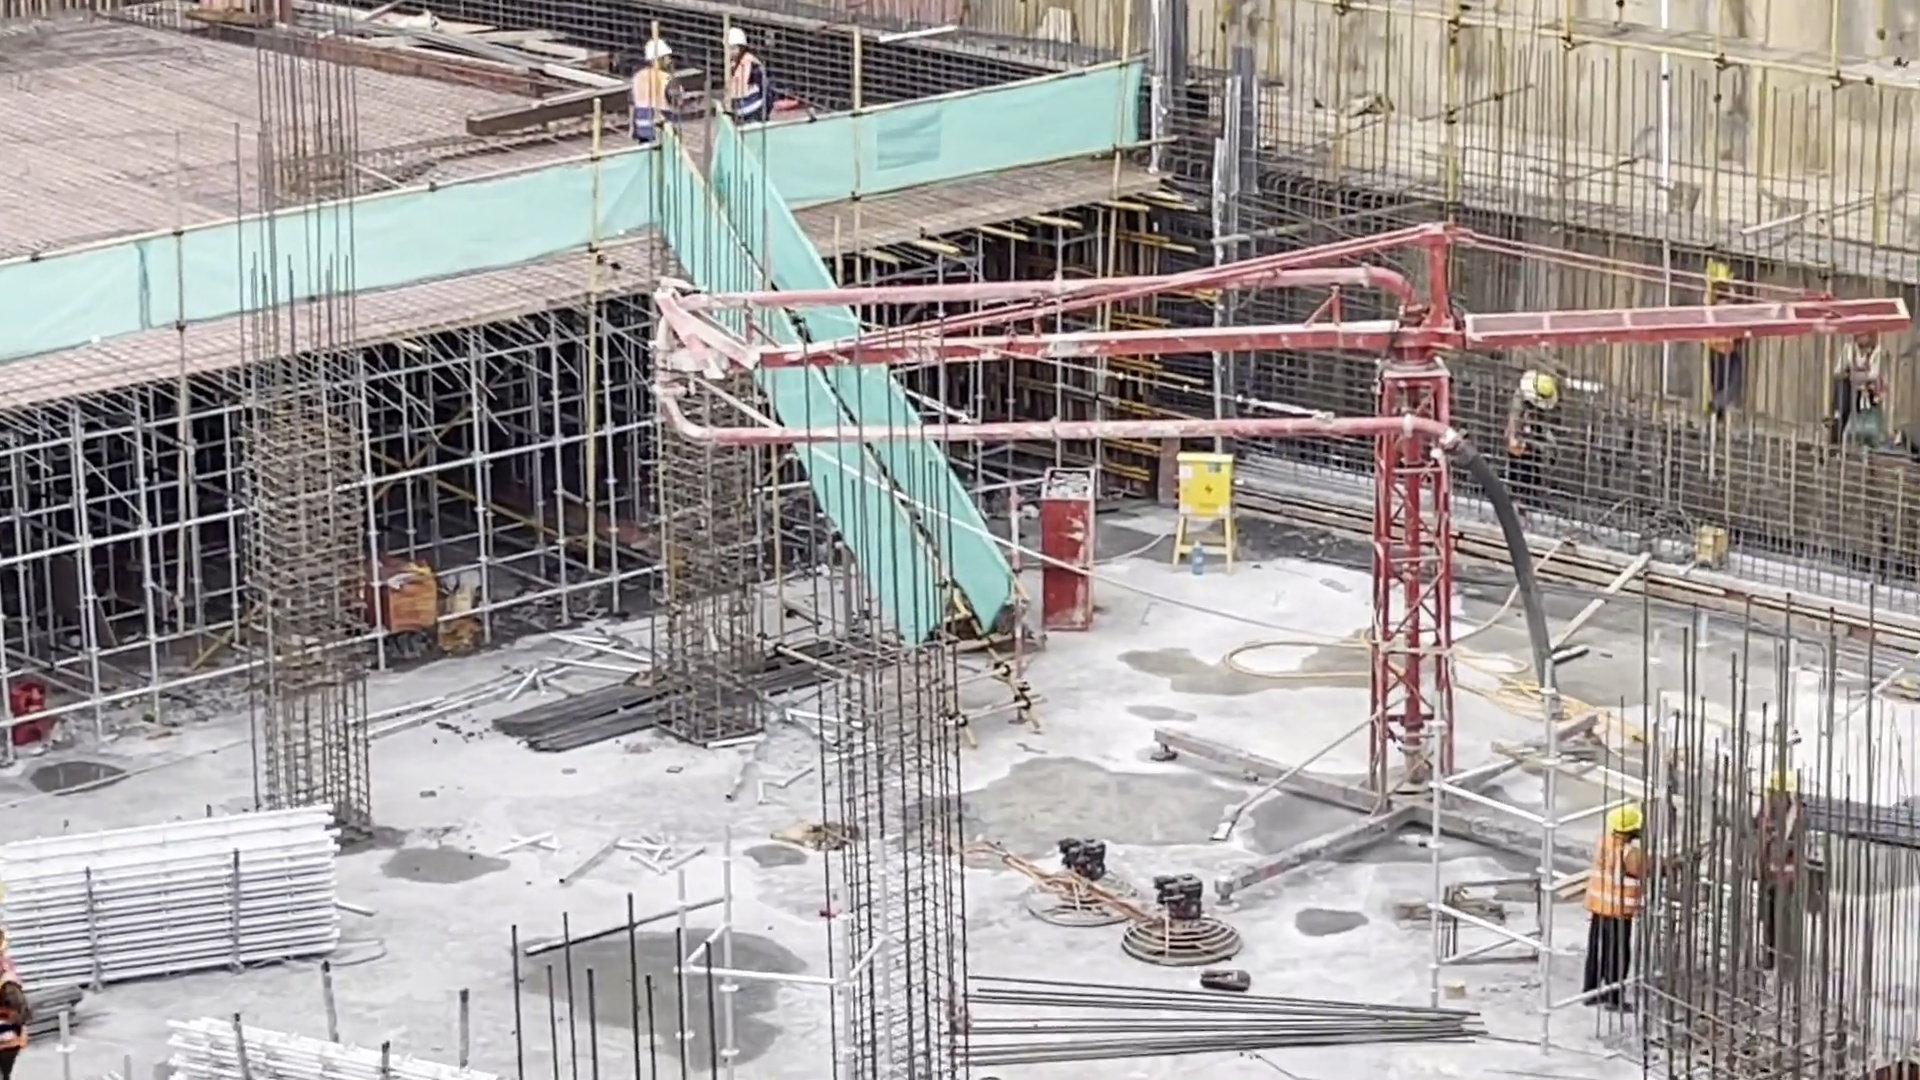helmet: (1517, 365, 1559, 404), (1604, 804, 1644, 836), (638, 33, 674, 62), (724, 30, 750, 46)
person: (1751, 765, 1826, 972), (1589, 794, 1658, 1018), (619, 34, 679, 145), (1833, 334, 1895, 441), (1511, 371, 1559, 509), (713, 27, 775, 118)
vest: (1588, 845, 1655, 924), (629, 64, 686, 140), (723, 64, 770, 122)
